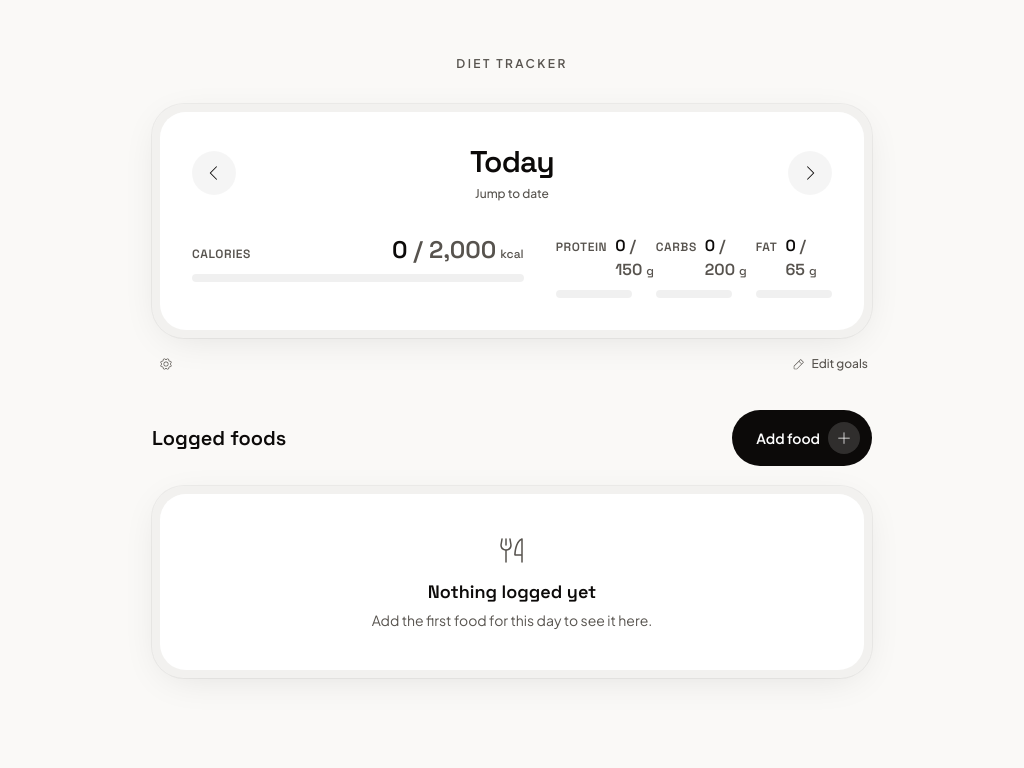
App — health score wiring › opens the health score settings modal when the gear icon is clicked
The image size is (1024, 768).
Click the button named "Health score settings": point(166, 364) [152,350,180,378]
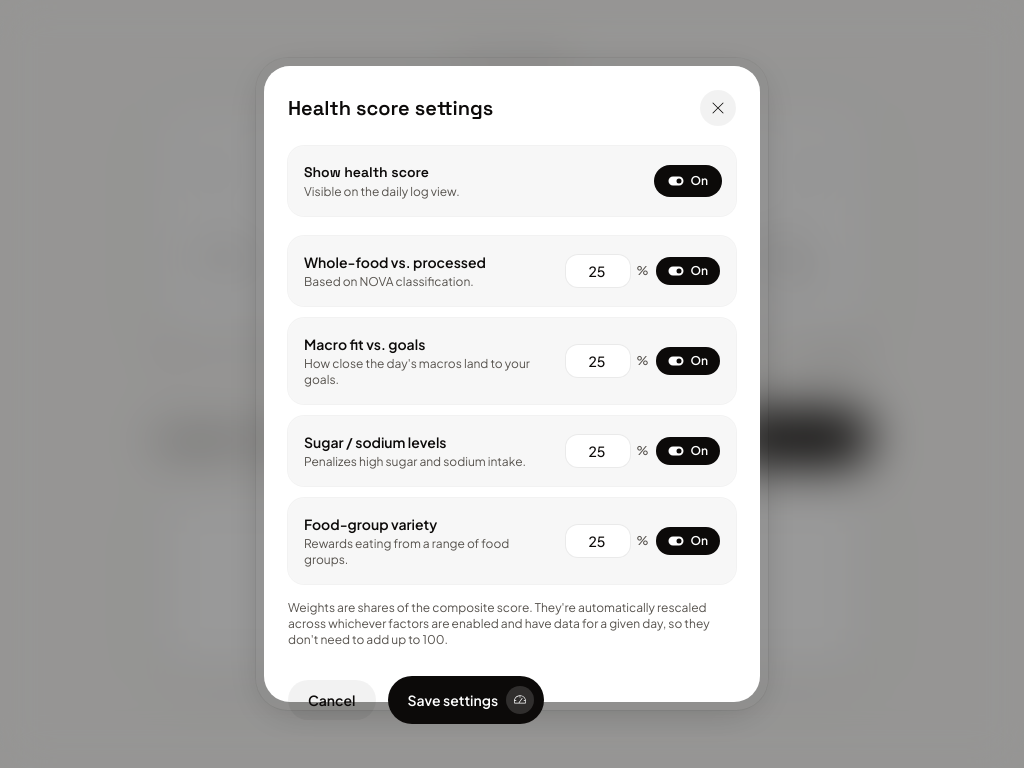
Check: the dialog is shown, box [256,58,768,710]
Check: the heading "Health score settings" is shown, box [288,94,493,122]
